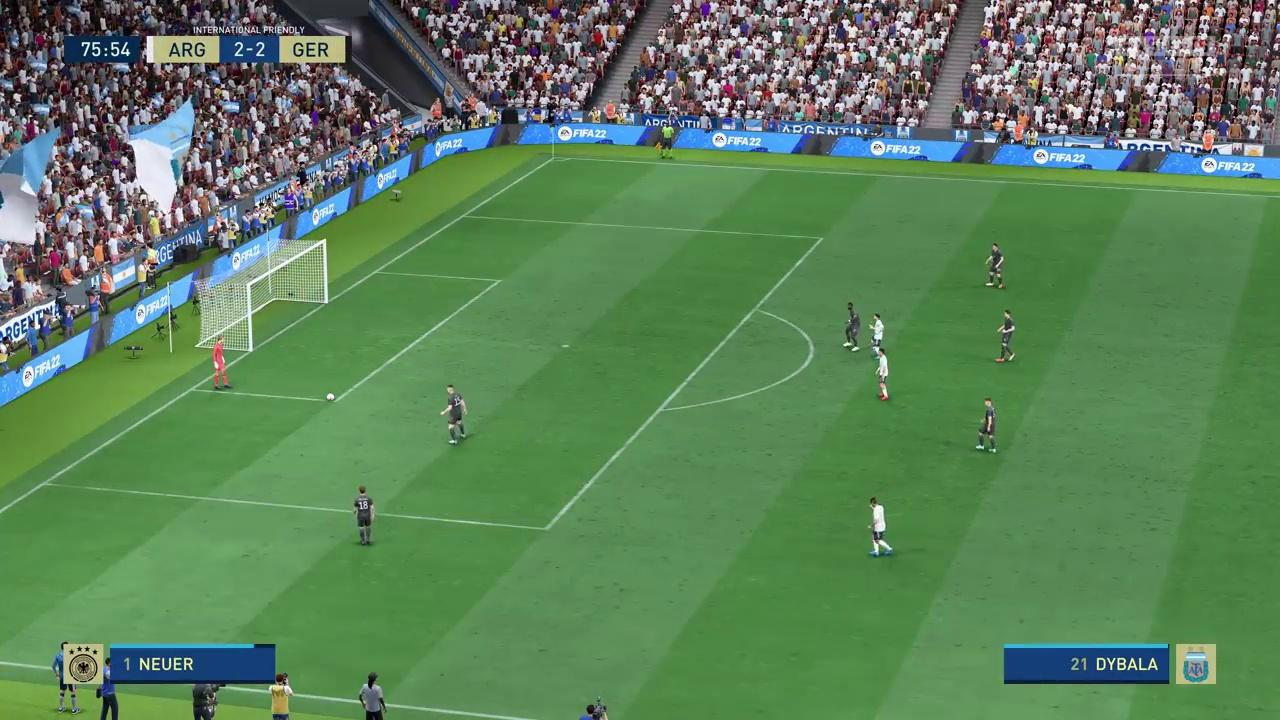scoreboard: (146, 33, 351, 67)
timestamp: (65, 35, 141, 64)
